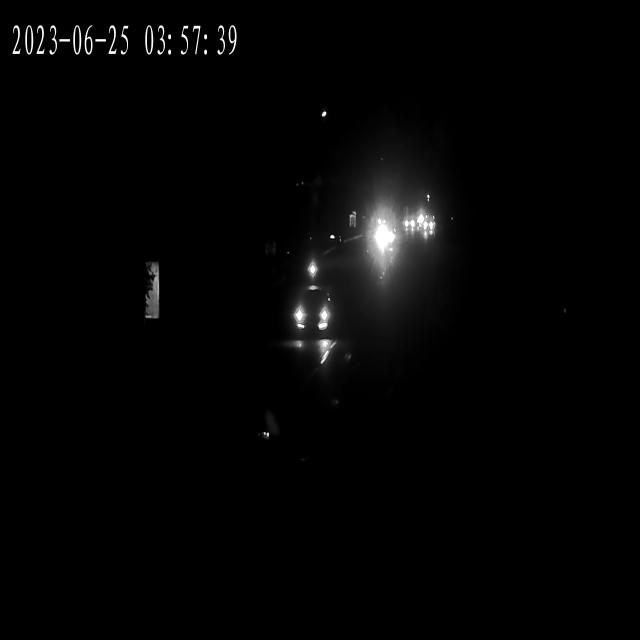Car: (290, 297, 332, 341), (370, 226, 396, 250), (369, 222, 395, 243), (368, 214, 392, 233), (402, 216, 418, 232), (400, 217, 415, 232), (421, 218, 436, 232)
